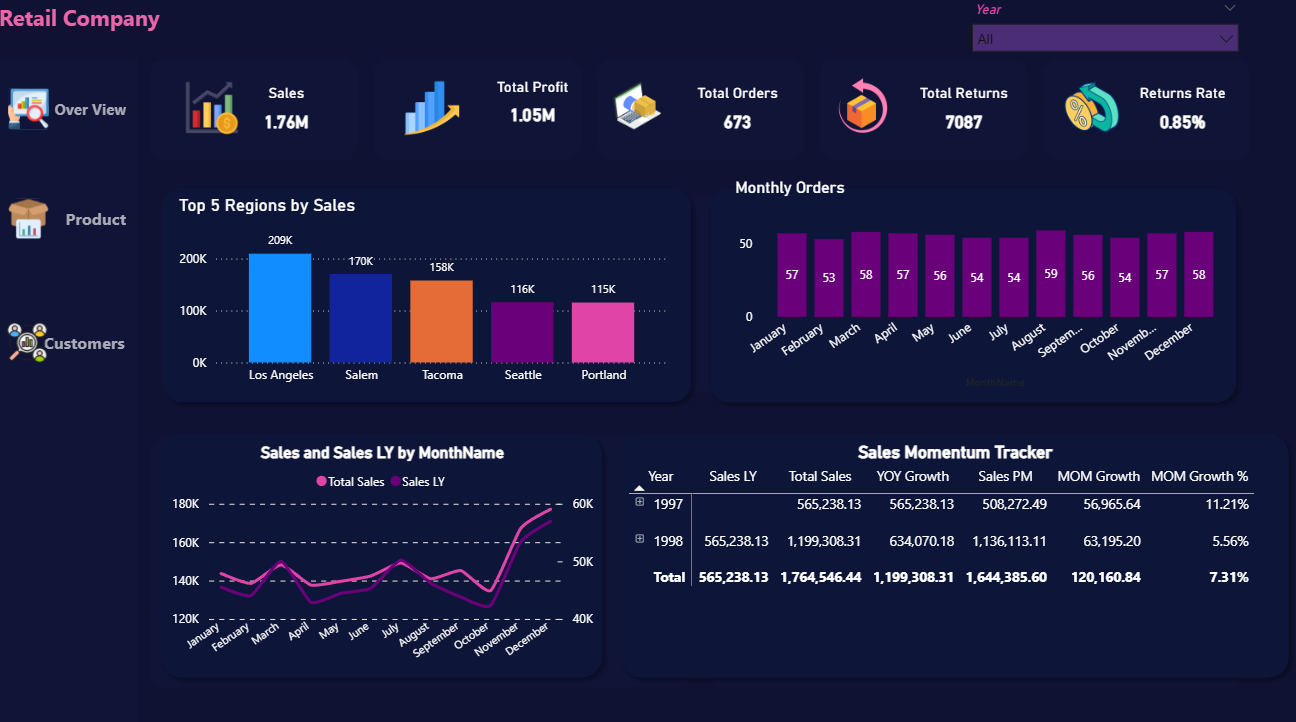

The page's visual inventory and layout, read from the dashboard file:
{"tool":"powerbi","page":{"name":"Over View","canvas":[1280,720],"ordinal":0},"visuals":[{"type":"textbox","box":[0,0,183.8,52.5],"z":0},{"type":"actionButton","box":[9.8,62.6,123.9,94.5],"z":1000},{"type":"actionButton","box":[10,170,123.8,93.8],"z":2000},{"type":"actionButton","box":[8.8,292.5,123.8,93.8],"z":3000},{"type":"card","title":"Total Orders","fields":{"Values":["Dax_Measure.Total Orders"]},"box":[667.5,86.2,125,57.5],"z":9000},{"type":"image","box":[593.8,80,73.8,53.8],"z":10000},{"type":"card","title":"Total Returns","fields":{"Values":["Dax_Measure.Total Returns"]},"box":[890,86.2,125,57.5],"z":11000},{"type":"image","box":[816.2,80,73.8,53.8],"z":12000},{"type":"shape","box":[606.2,420,673.8,257.5],"z":13000},{"type":"card","title":"Sales","fields":{"Values":["Dax_Measure.Total Sales"]},"box":[225,86.2,125,57.5],"z":14000},{"type":"image","box":[176.2,82.5,73.8,53.8],"z":15000},{"type":"card","title":" Returns Rate","fields":{"Values":["Dax_Measure.Return Rate %"]},"box":[1103.8,86.2,125,57.5],"z":16000},{"type":"image","box":[1040,81.2,73.8,53.8],"z":17000},{"type":"pivotTable","title":"Sales Momentum Tracker","fields":{"Rows":["Dim_Date.Year","Dim_Date.MonthName"],"Values":["Dax_Measure.Sales LY","Dax_Measure.Total Sales","Dax_Measure.YOY Growth","Dax_Measure.Sales PM","Dax_Measure.MOM Growth","Dax_Measure.MOM Growth %"]},"box":[618.4,436.8,650.3,222.1],"z":18000},{"type":"shape","box":[693.3,177.9,535,229.4],"z":19000},{"type":"shape","box":[156.4,178.4,537.9,229.2],"z":20000},{"type":"shape","box":[155,420,451.2,257.5],"z":21000},{"type":"lineChart","title":"Sales and Sales LY by MonthName","fields":{"Category":["Dim_Date.MonthName"],"Y2":["Dax_Measure.Sales LY"],"Y":["Dax_Measure.Total Sales"]},"box":[168.8,437.7,424,223.7],"z":22000},{"type":"columnChart","title":"Top 5 Regions by Sales","fields":{"Category":["Region.sales_district"],"Y":["Dax_Measure.Total Sales"]},"box":[176.7,193.9,490.8,195.1],"z":23000},{"type":"columnChart","title":"Monthly Orders","fields":{"Y":["Dax_Measure.Total Orders"],"Category":["Dim_Date.MonthName"]},"box":[722.7,177.9,494.5,211],"z":25000},{"type":"card","title":"Total Profit","fields":{"Values":["Dax_Measure.Total Profit"]},"box":[466.2,80,125,57.5],"z":26000},{"type":"image","box":[392.5,82.5,73.8,53.8],"z":27000},{"type":"slicer","fields":{"Values":["Dim_Date.Year"]},"box":[949.7,0,282.2,77.3],"z":28000}]}

Visuals, with their boxes in screenshot pixels (x1, y1, x2, y2), scaled from the page's 1280x720 canvas onto the 1296x722 screenshot:
textbox: {"left": 0, "top": 0, "right": 186, "bottom": 53}
actionButton: {"left": 10, "top": 63, "right": 135, "bottom": 158}
actionButton: {"left": 10, "top": 170, "right": 135, "bottom": 265}
actionButton: {"left": 9, "top": 293, "right": 134, "bottom": 387}
"Total Orders" card: {"left": 676, "top": 86, "right": 802, "bottom": 144}
image: {"left": 601, "top": 80, "right": 676, "bottom": 134}
"Total Returns" card: {"left": 901, "top": 86, "right": 1028, "bottom": 144}
image: {"left": 826, "top": 80, "right": 901, "bottom": 134}
shape: {"left": 614, "top": 421, "right": 1295, "bottom": 679}
"Sales" card: {"left": 228, "top": 86, "right": 354, "bottom": 144}
image: {"left": 178, "top": 83, "right": 253, "bottom": 137}
" Returns Rate" card: {"left": 1118, "top": 86, "right": 1244, "bottom": 144}
image: {"left": 1053, "top": 81, "right": 1128, "bottom": 135}
"Sales Momentum Tracker" pivotTable: {"left": 626, "top": 438, "right": 1285, "bottom": 661}
shape: {"left": 702, "top": 178, "right": 1244, "bottom": 408}
shape: {"left": 158, "top": 179, "right": 703, "bottom": 409}
shape: {"left": 157, "top": 421, "right": 614, "bottom": 679}
"Sales and Sales LY by MonthName" lineChart: {"left": 171, "top": 439, "right": 600, "bottom": 663}
"Top 5 Regions by Sales" columnChart: {"left": 179, "top": 194, "right": 676, "bottom": 390}
"Monthly Orders" columnChart: {"left": 732, "top": 178, "right": 1232, "bottom": 390}
"Total Profit" card: {"left": 472, "top": 80, "right": 599, "bottom": 138}
image: {"left": 397, "top": 83, "right": 472, "bottom": 137}
slicer - Dim_Date.Year: {"left": 962, "top": 0, "right": 1247, "bottom": 78}
